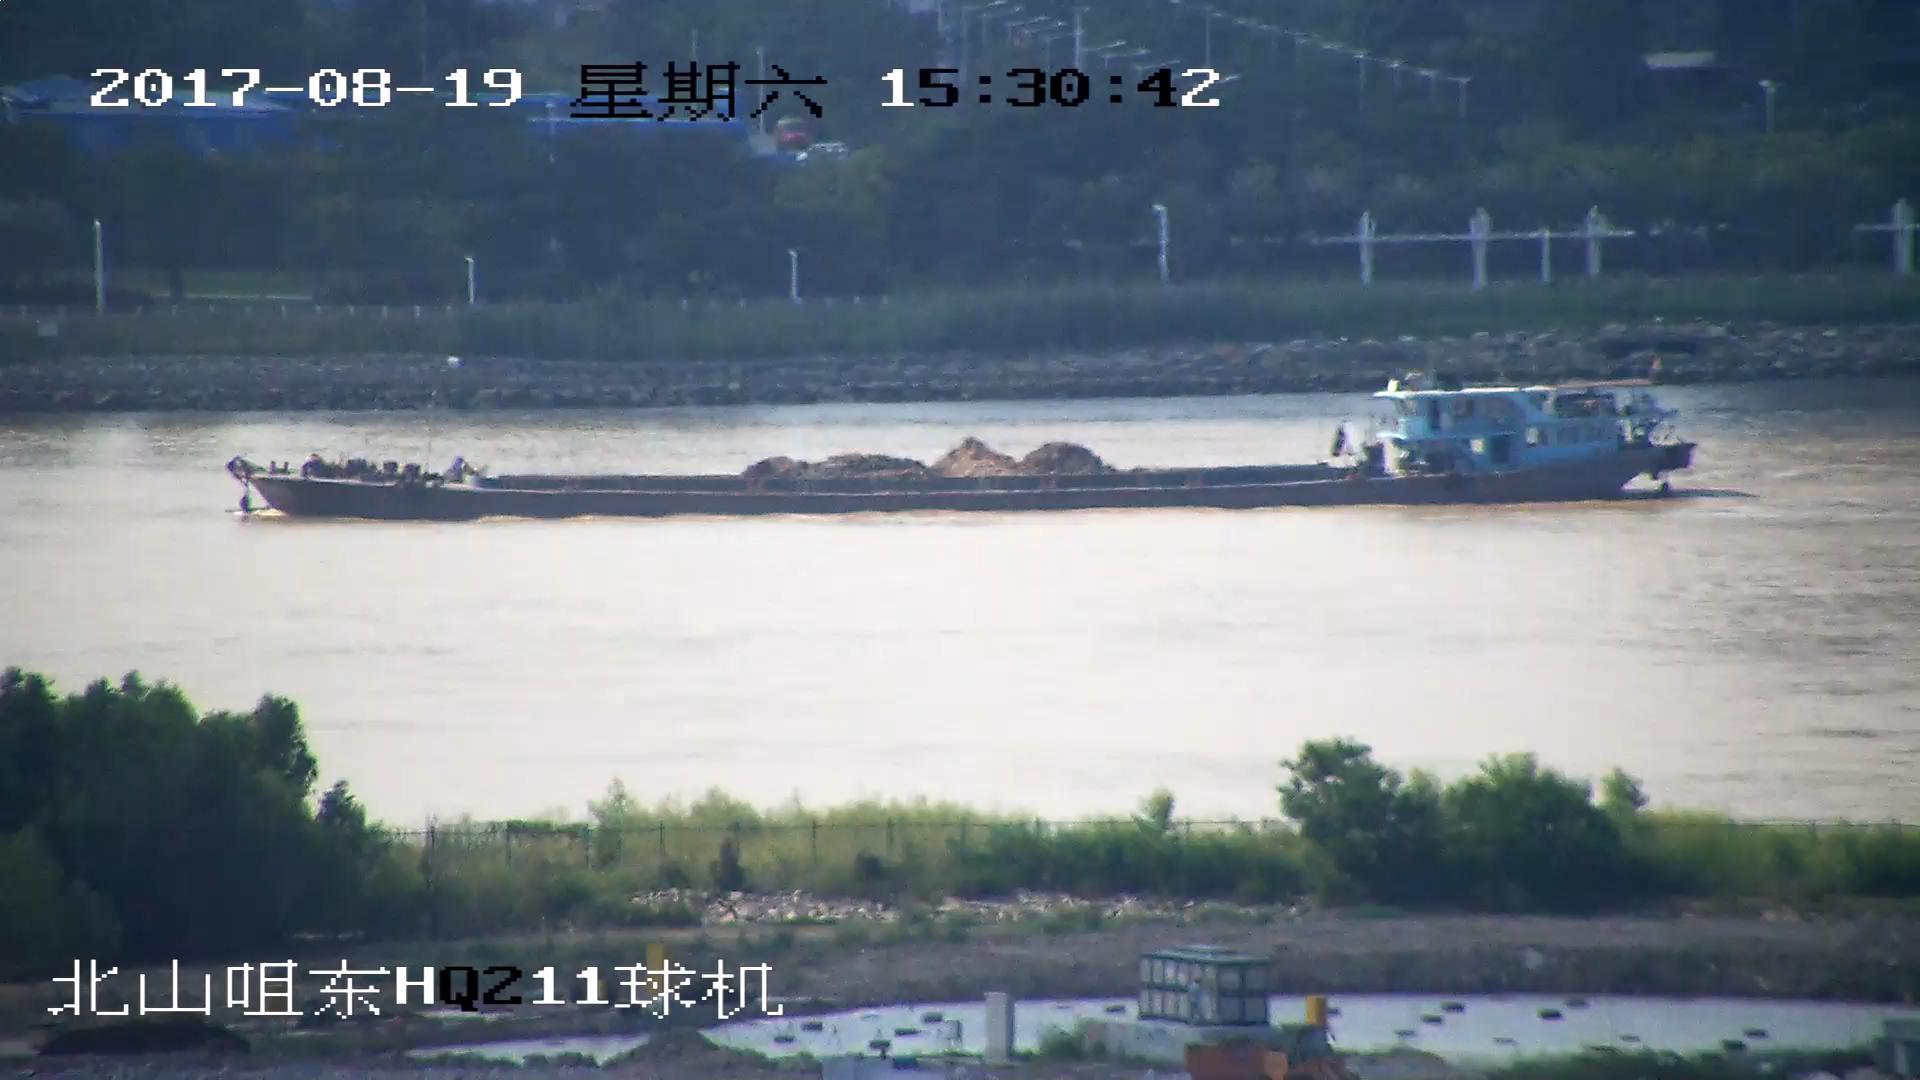Ship: (231, 369, 1695, 521)
